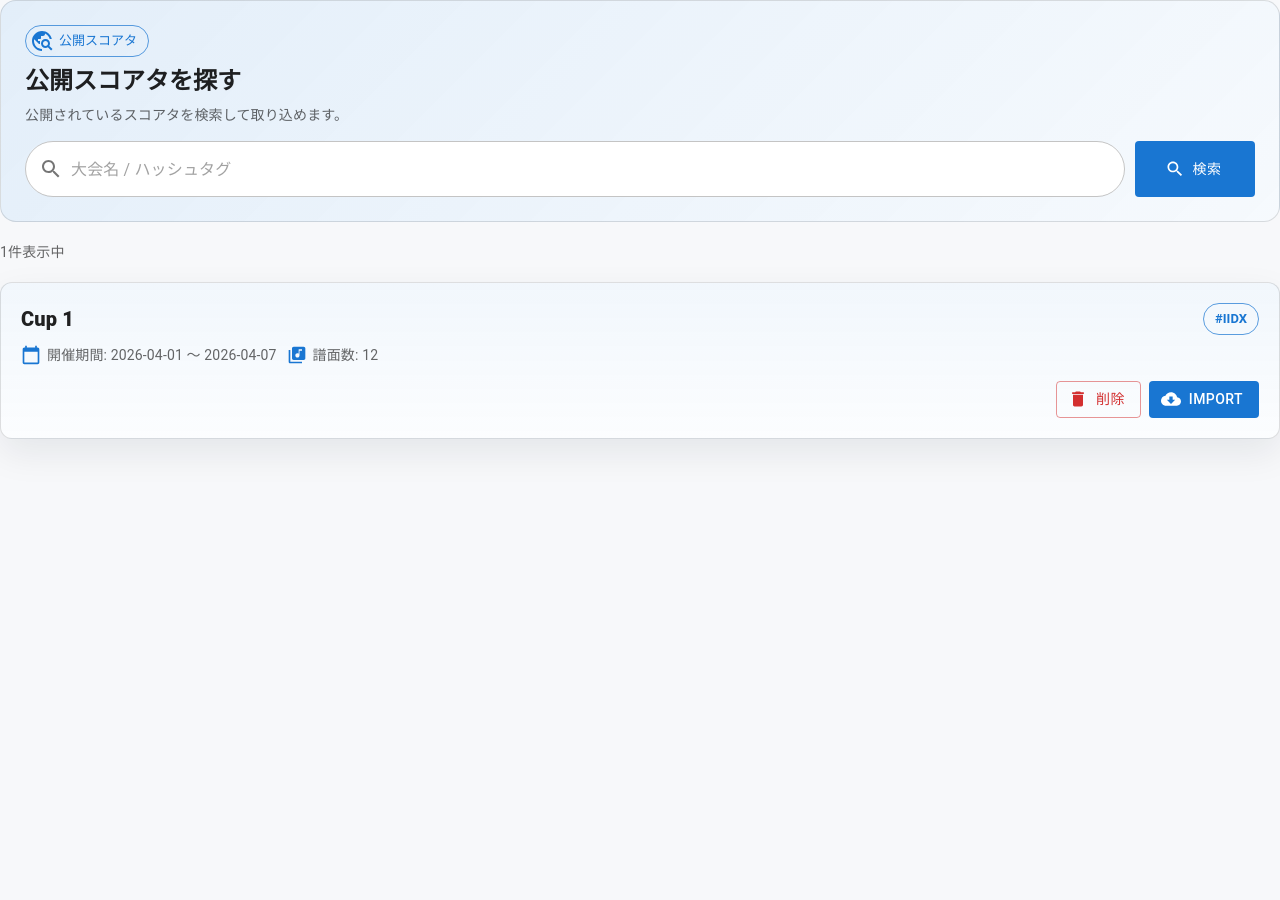
Test case: PublicCatalogPage › keeps the item and shows an error when delete fails
Check: the heading "Cup 1" is shown, box [21,303,74,335]
Click the button "削除" at (1098, 399), box [1056,381,1141,418]
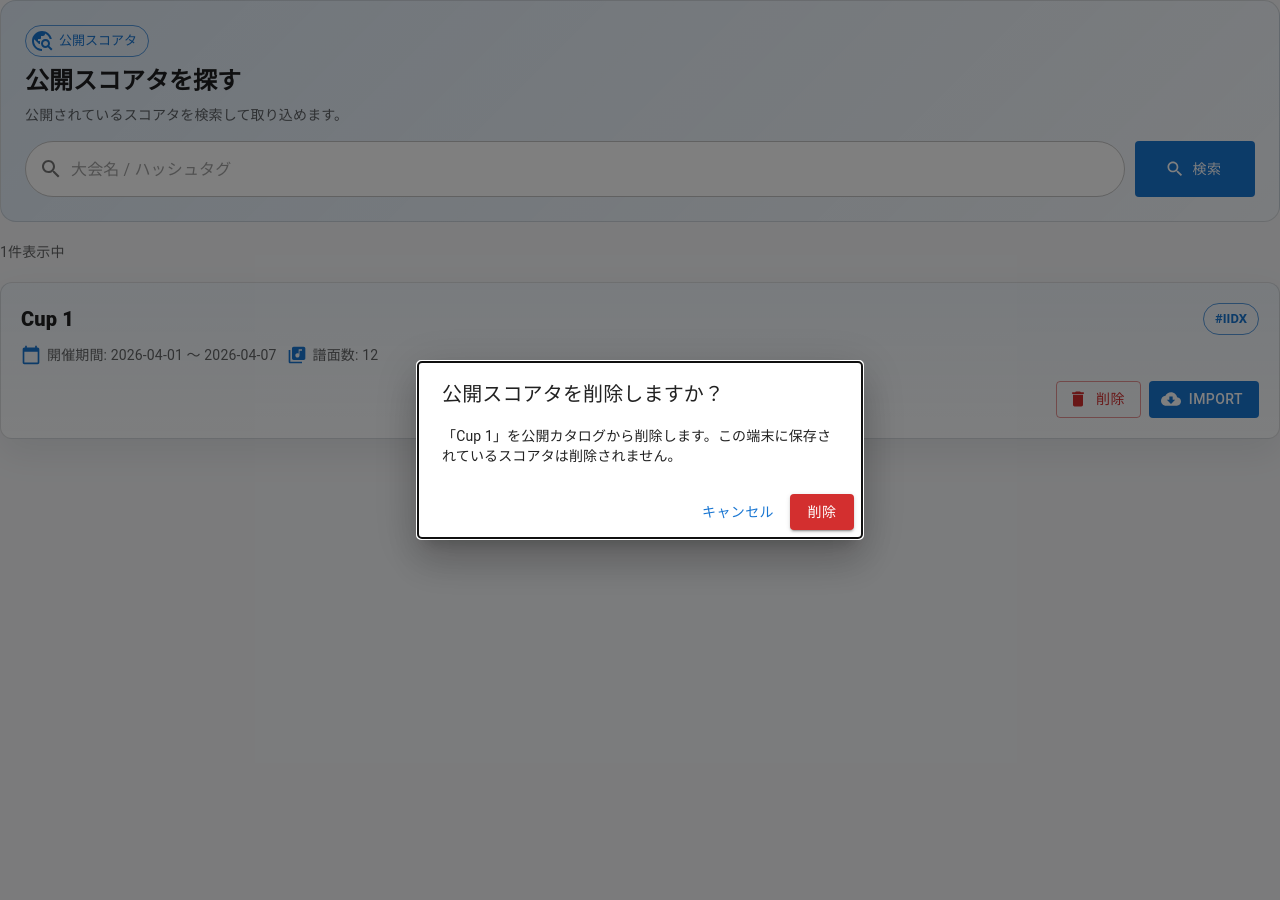
Click the button "削除" at (822, 512), box [790,494,854,530]
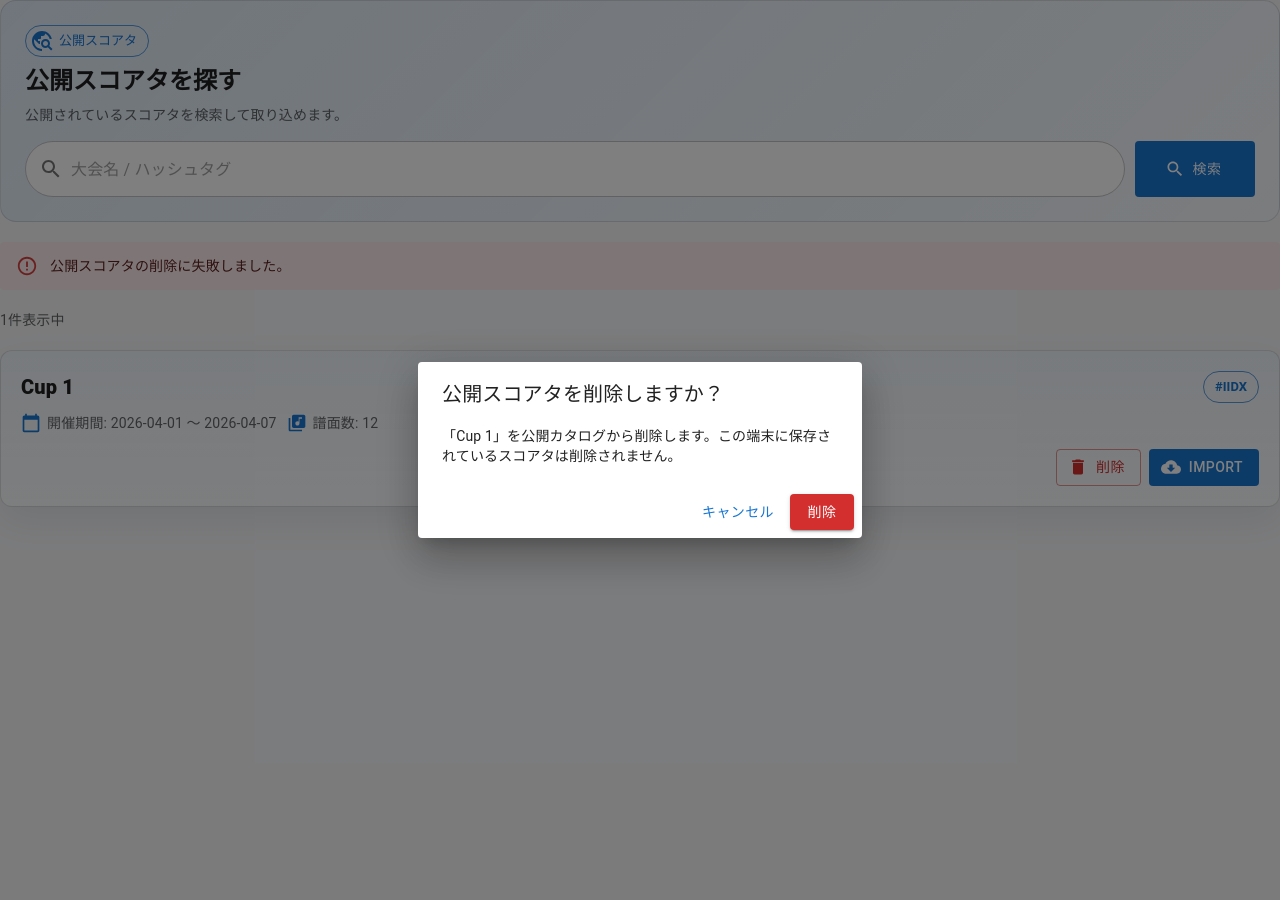
Check: the heading "Cup 1" is shown, box [21,371,74,403]
Check: the text "公開スコアタの削除に失敗しました。" is shown, box [50,258,291,274]
